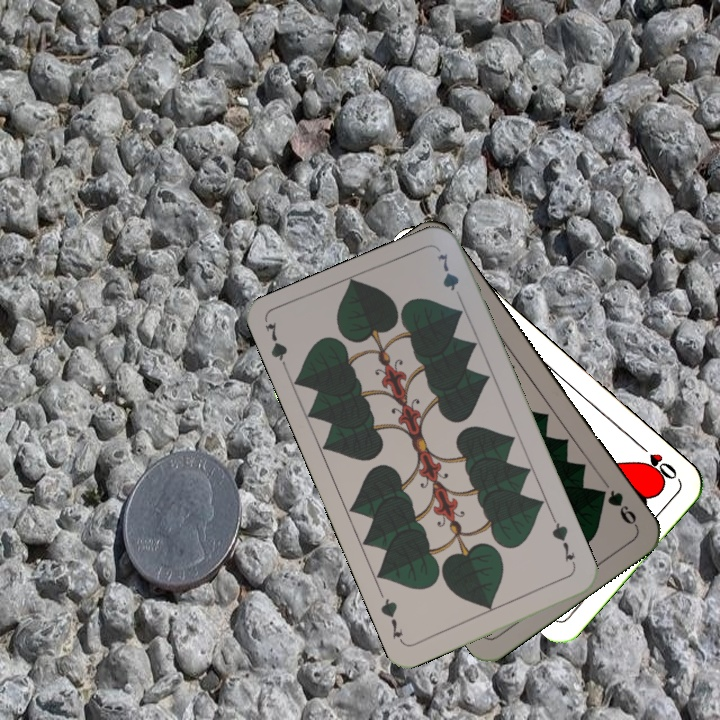G7: (261, 318, 292, 377), (547, 515, 578, 564)
G9: (592, 485, 640, 530)
HO: (633, 438, 680, 483)
